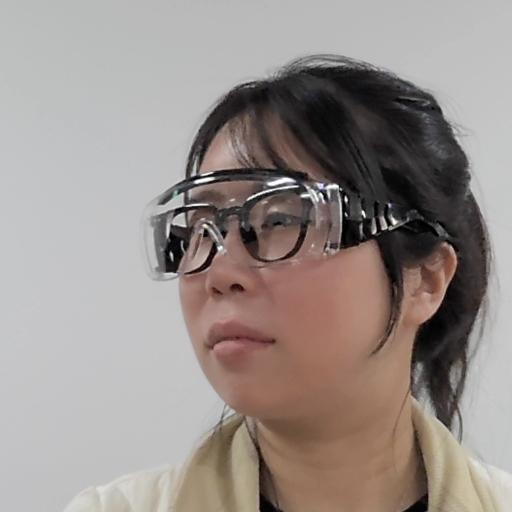glasses: (137, 61, 499, 427)
